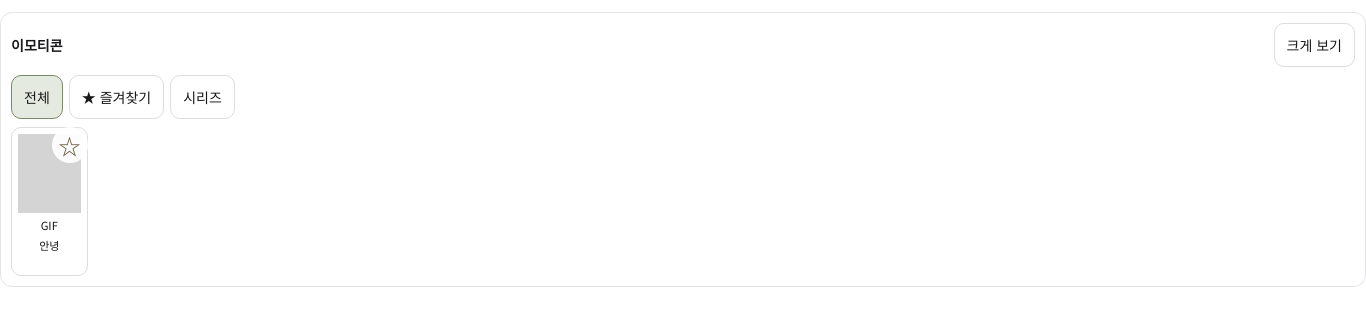
shows all previews and saves per-account favorites without selecting a sticker
This screenshot has width=1366, height=325.
Click the button named "안녕 즐겨찾기 추가".
click(70, 145)  # box [52, 127, 88, 163]
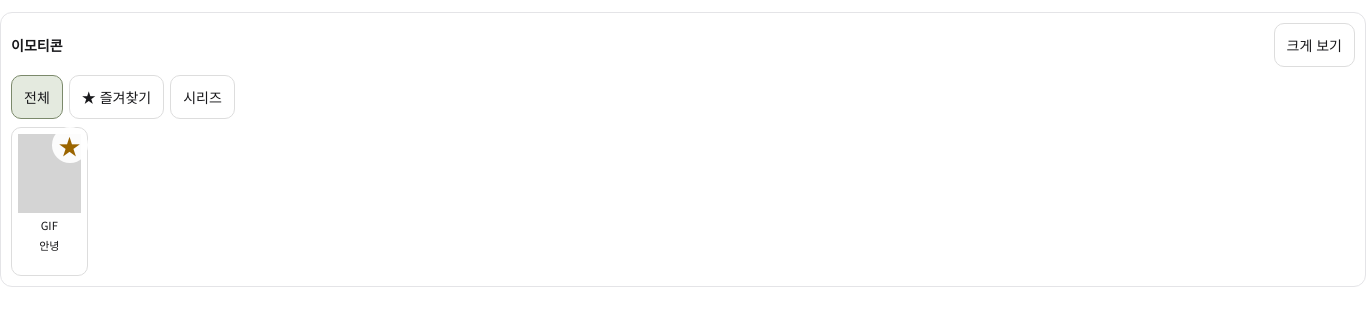
expect the button named "안녕 즐겨찾기 해제" is shown: met, box [52, 127, 88, 163]
Click the button "★ 즐겨찾기".
click(117, 97)  # box [69, 75, 164, 119]
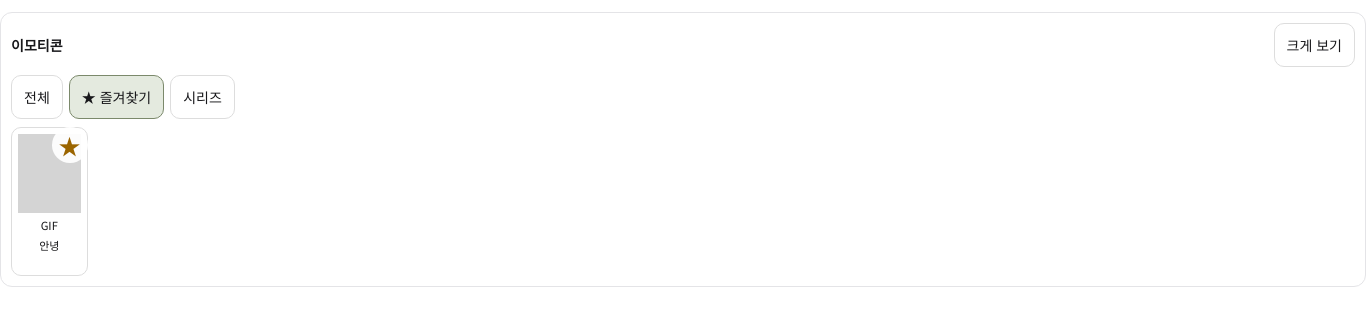
expect the button with aria-label "안녕 선택" is shown: met, box [11, 127, 88, 276]
Click the button named "안녕 즐겨찾기 해제".
click(70, 145)  # box [52, 127, 88, 163]
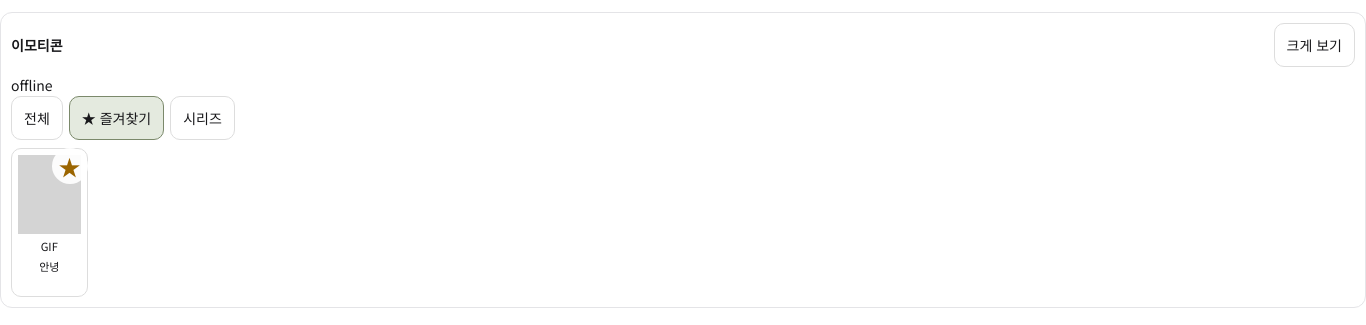
expect the button named "안녕 즐겨찾기 해제" is shown: met, box [52, 148, 88, 184]
expect the message reads "offline": met, box [11, 75, 53, 95]
